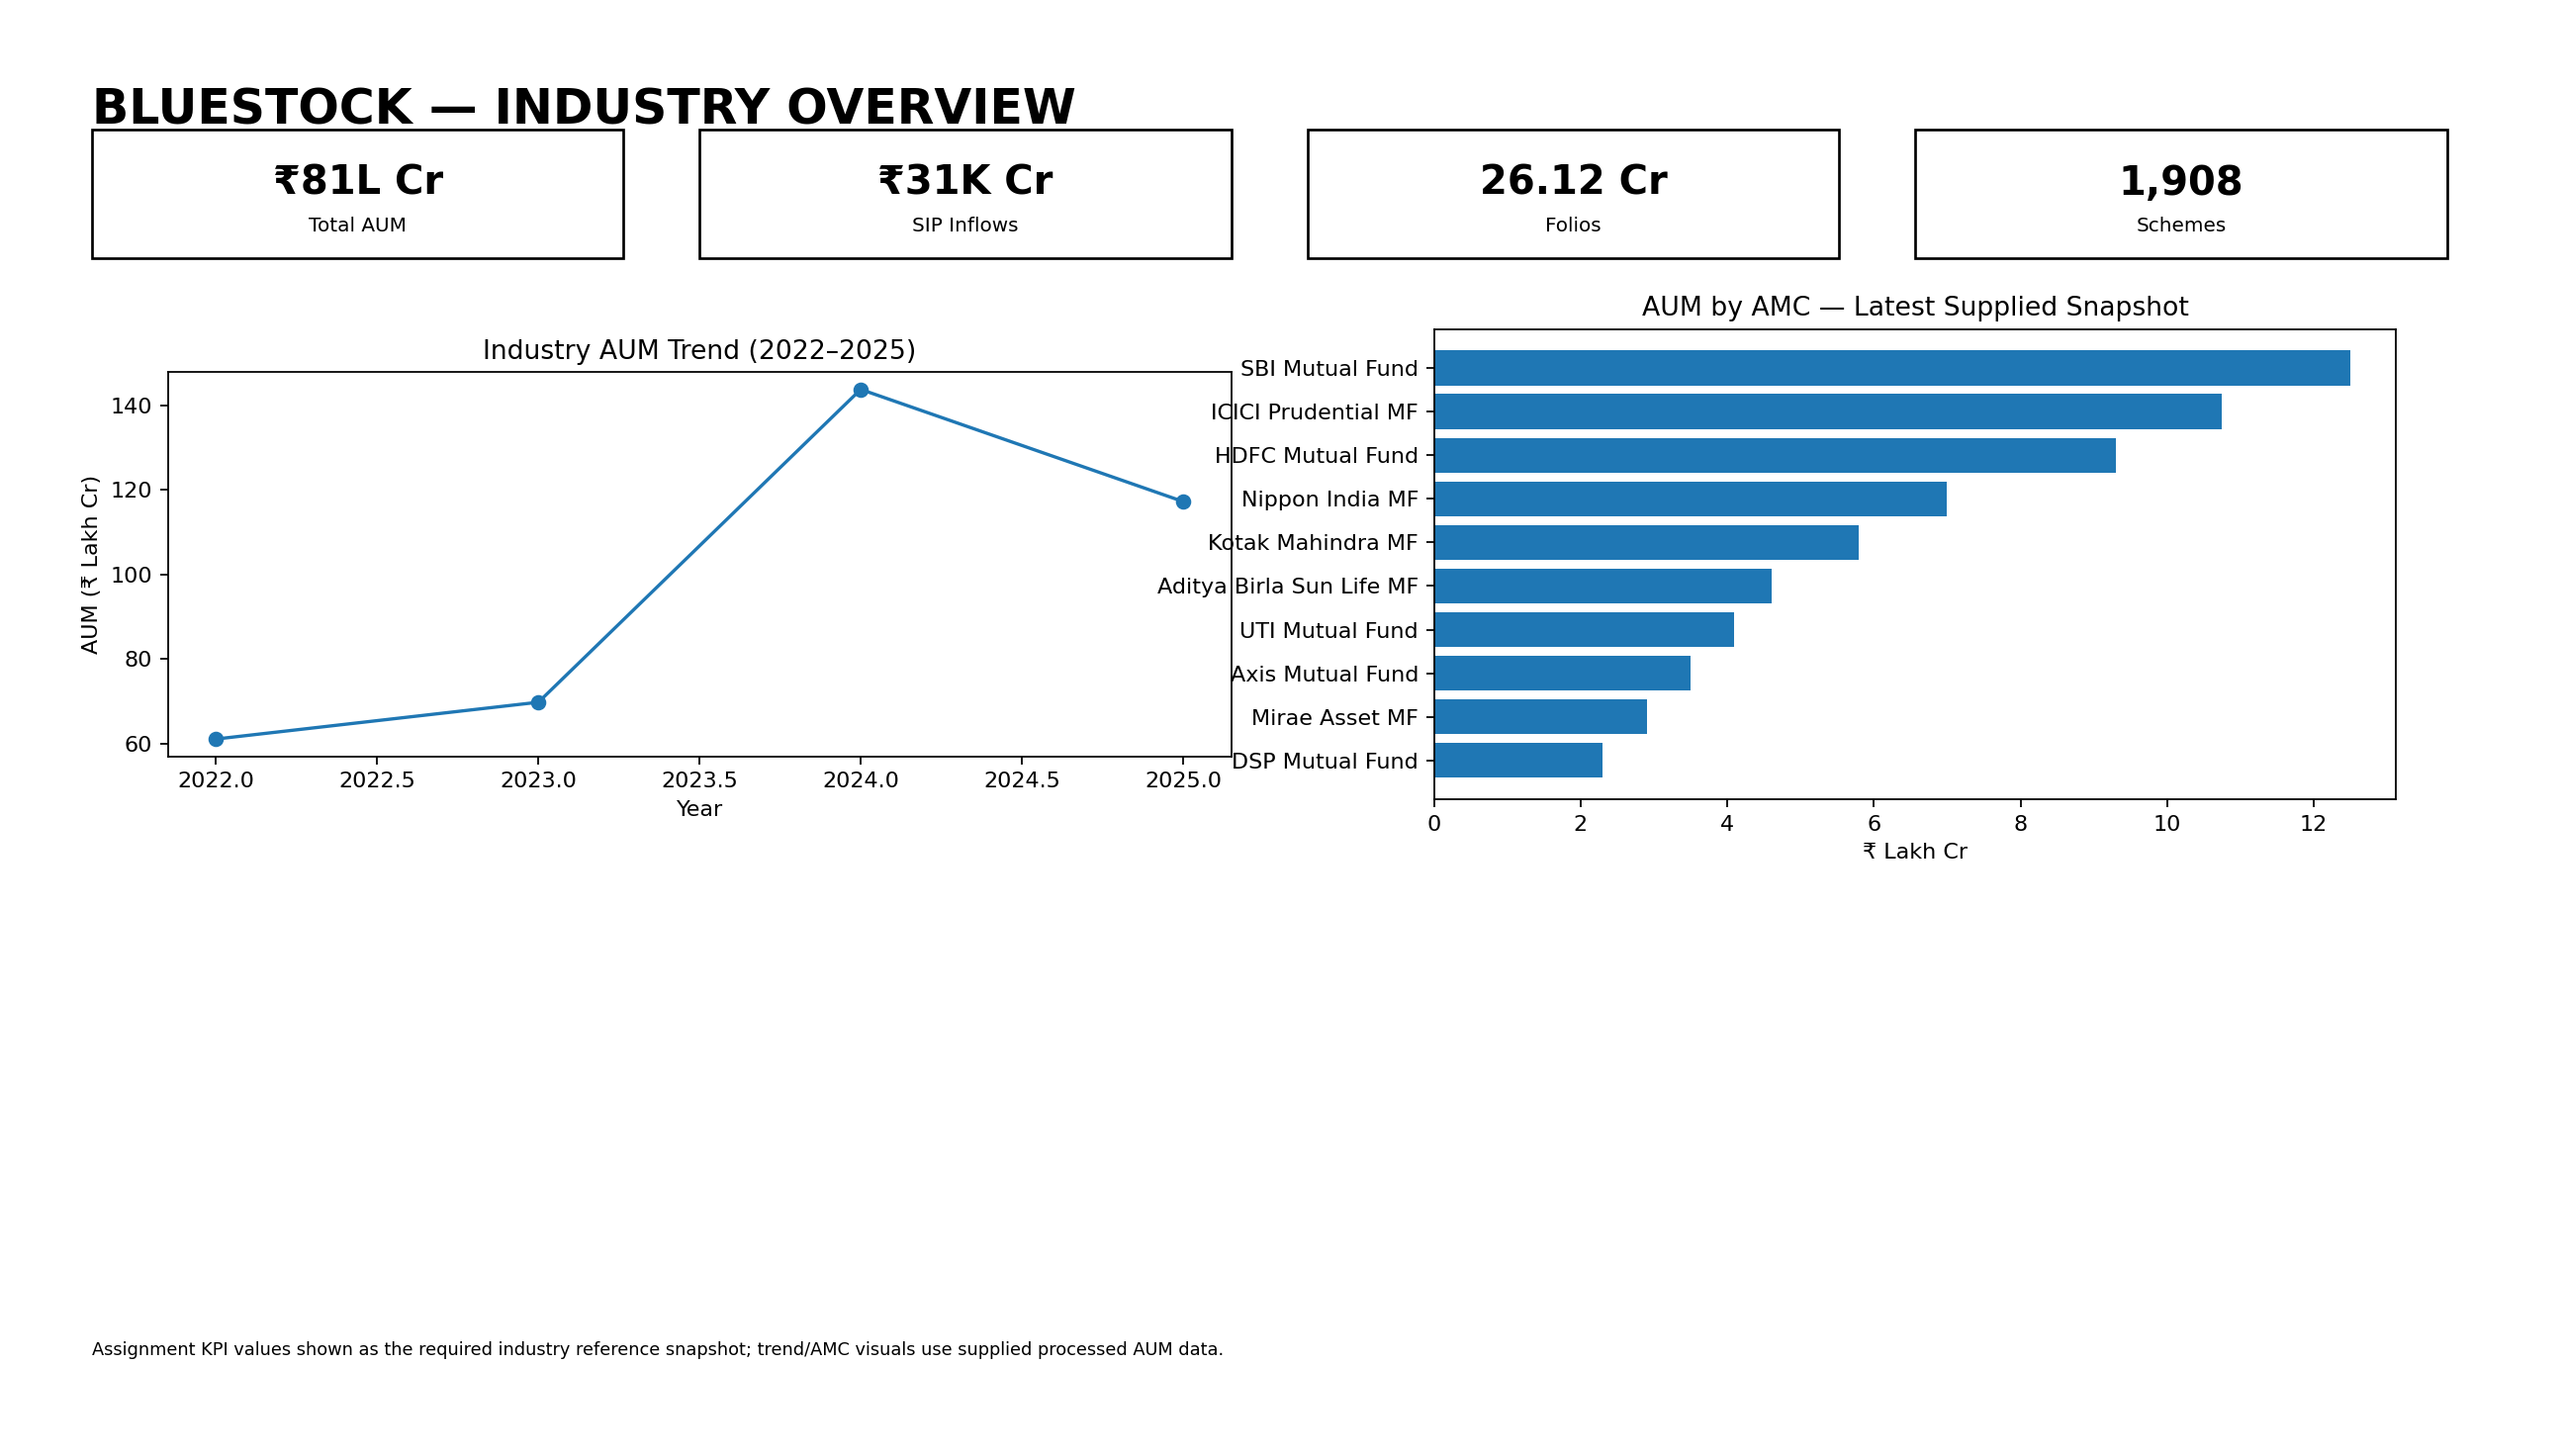

Layout of this report page (visuals, bound fields, positions):
{"tool":"powerbi","page":{"name":"Executive Overview","canvas":[1280,720],"ordinal":0},"visuals":[{"type":"lineChart","title":"Monthly SIP Inflow Trend","fields":{"Category":["Monthly SIP.month.Variation.Date Hierarchy.Year","Monthly SIP.month.Variation.Date Hierarchy.Quarter","Monthly SIP.month.Variation.Date Hierarchy.Month","Monthly SIP.month.Variation.Date Hierarchy.Day"],"Y":["Sum(Monthly SIP.sip_inflow_crore)"]},"box":[0,105.6,758.3,273.6],"z":0},{"type":"clusteredBarChart","fields":{"Category":["AUM.fund_house"],"Y":["Sum(AUM.aum_crore)"]},"box":[0,379.2,640.3,258.3],"z":1000},{"type":"donutChart","fields":{"Category":["Fund Master.risk_category"],"Y":["CountNonNull(Fund Master.amfi_code)"]},"box":[758.3,105.6,515.3,273.6],"z":2000},{"type":"lineChart","fields":{"Category":["Benchmark.date.Variation.Date Hierarchy.Year","Benchmark.date.Variation.Date Hierarchy.Quarter","Benchmark.date.Variation.Date Hierarchy.Month","Benchmark.date.Variation.Date Hierarchy.Day"],"Series":["Benchmark.index_name"],"Y":["Sum(Benchmark.close_value)"]},"box":[640.3,379.2,633.3,256.9],"z":3000},{"type":"slicer","fields":{"Values":["Fund Master.fund_house"]},"box":[0,633.3,376.4,86.1],"z":4000},{"type":"slicer","fields":{"Values":["Fund Master.category"]},"box":[433.3,637.5,413.9,81.9],"z":5000},{"type":"slicer","fields":{"Values":["Fund Master.risk_category"]},"box":[866.7,637.5,395.8,81.9],"z":6000},{"type":"cardVisual","fields":{"Data":["Fund Master.Total Funds"]},"box":[0,0,283.3,105.6],"z":7000},{"type":"cardVisual","fields":{"Data":["Fund Master.Total Fund Houses"]},"box":[226.4,0,300,108.3],"z":8000},{"type":"cardVisual","fields":{"Data":["Fund Master.Total AUM"]},"box":[490.3,0,300,105.6],"z":9000},{"type":"cardVisual","fields":{"Data":["Fund Master.Average Expense Ratio"]},"box":[731.9,1.4,300,106.9],"z":10000},{"type":"cardVisual","fields":{"Data":["Fund Master.Average 5Y Return"]},"box":[1005.6,0,268.1,109.7],"z":11000}]}

Visuals, with their boxes in screenshot pixels (x1, y1, x2, y2), scaled from the page's 1280x720 canvas onto the 2564x1456 screenshot:
"Monthly SIP Inflow Trend" lineChart: [x1=0, y1=214, x2=1519, y2=767]
clusteredBarChart - AUM.fund_house x Sum(AUM.aum_crore): [x1=0, y1=767, x2=1283, y2=1289]
donutChart - Fund Master.risk_category x CountNonNull(Fund Master.amfi_code): [x1=1519, y1=214, x2=2551, y2=767]
lineChart - Benchmark.date.Variation.Date Hierarchy.Year x Benchmark.date.Variation.Date Hierarchy.Quarter: [x1=1283, y1=767, x2=2551, y2=1286]
slicer - Fund Master.fund_house: [x1=0, y1=1281, x2=754, y2=1455]
slicer - Fund Master.category: [x1=868, y1=1289, x2=1697, y2=1455]
slicer - Fund Master.risk_category: [x1=1736, y1=1289, x2=2529, y2=1455]
cardVisual - Fund Master.Total Funds: [x1=0, y1=0, x2=568, y2=214]
cardVisual - Fund Master.Total Fund Houses: [x1=453, y1=0, x2=1054, y2=219]
cardVisual - Fund Master.Total AUM: [x1=982, y1=0, x2=1583, y2=214]
cardVisual - Fund Master.Average Expense Ratio: [x1=1466, y1=3, x2=2067, y2=219]
cardVisual - Fund Master.Average 5Y Return: [x1=2014, y1=0, x2=2551, y2=222]
